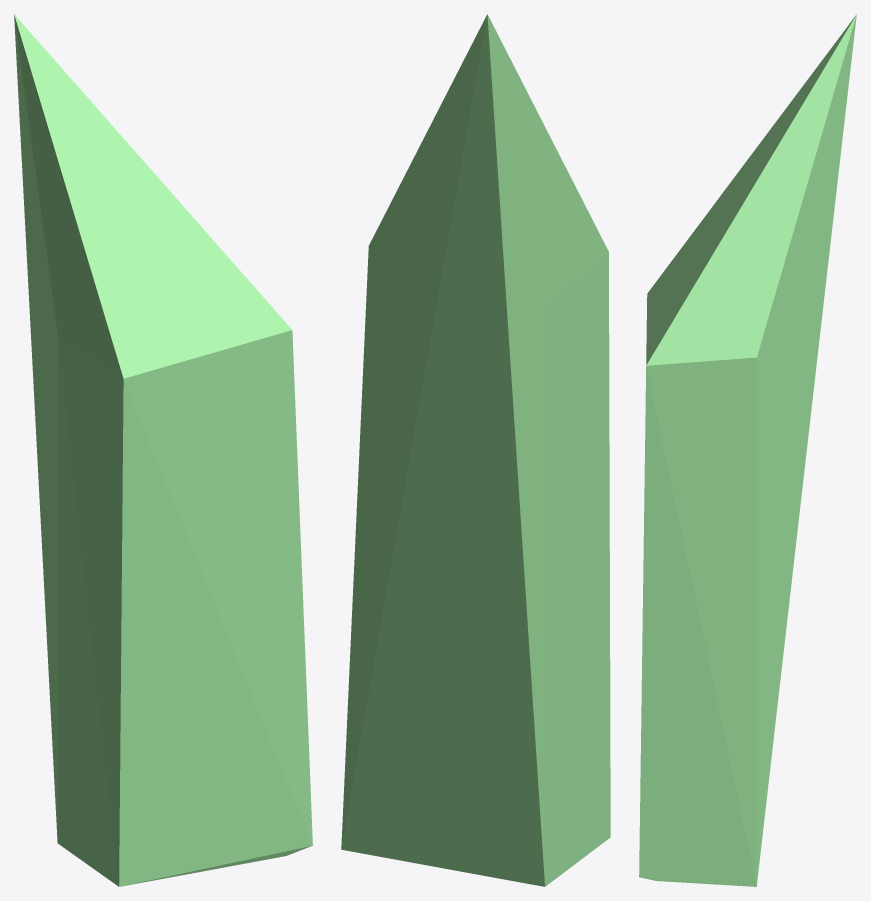
File: panda_leftFinger_coll_4.dae
The picture shows the model from 3 angles, left to right: view 1: azimuth 30°, elevation 25°; view 2: azimuth 150°, elevation 25°; view 3: azimuth 270°, elevation 25°; orthographic projection. The views are drawn at different scales.
Parts seen in each view (by area): view 1: node; view 2: node; view 3: node.
Boxes of the visible parts, bbox=[...] form: node: bbox=[14, 14, 312, 886]; node: bbox=[341, 14, 610, 886]; node: bbox=[639, 14, 856, 886].
Bounding box in the file's own units: 0.00382 × 0.0155 × 0.00389.
